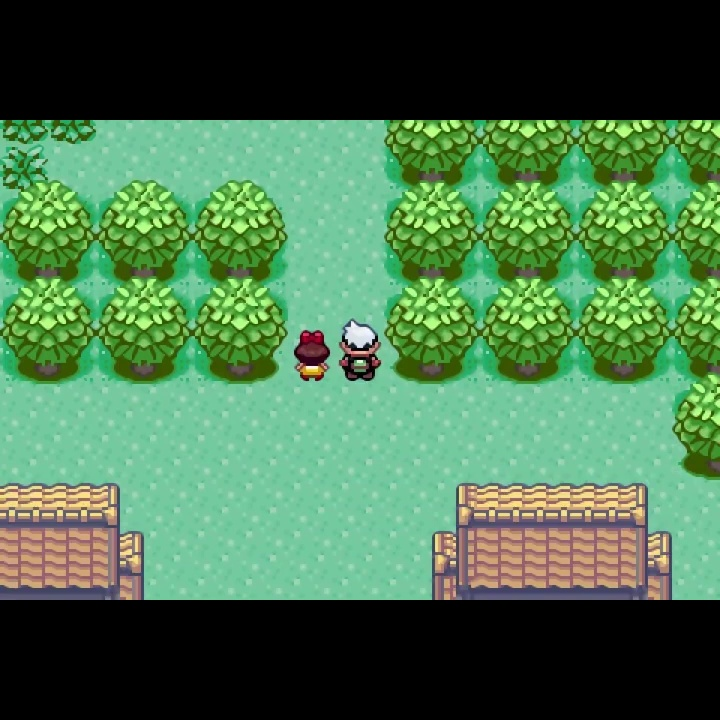grass: (1, 145, 51, 193), (1, 119, 50, 145), (49, 120, 99, 145)
house: (430, 477, 675, 600), (1, 480, 148, 602)
npc: (333, 318, 383, 385), (290, 327, 335, 383)
wall: (481, 275, 578, 386), (382, 276, 480, 385), (577, 275, 672, 387), (192, 276, 290, 384), (1, 275, 96, 385), (96, 276, 192, 383), (190, 179, 291, 280), (480, 178, 577, 280), (97, 178, 194, 279), (383, 180, 481, 278), (1, 177, 96, 278), (578, 181, 672, 279), (479, 120, 576, 182), (577, 120, 672, 183), (383, 120, 480, 181), (672, 370, 720, 483), (670, 275, 720, 375), (672, 180, 720, 276), (672, 119, 720, 184)
